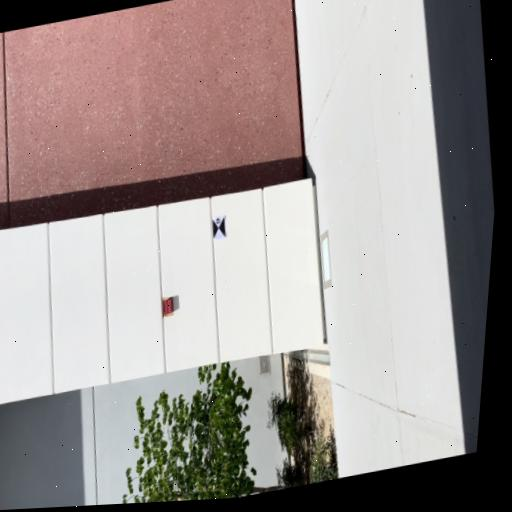target9: (210, 214, 228, 239)
